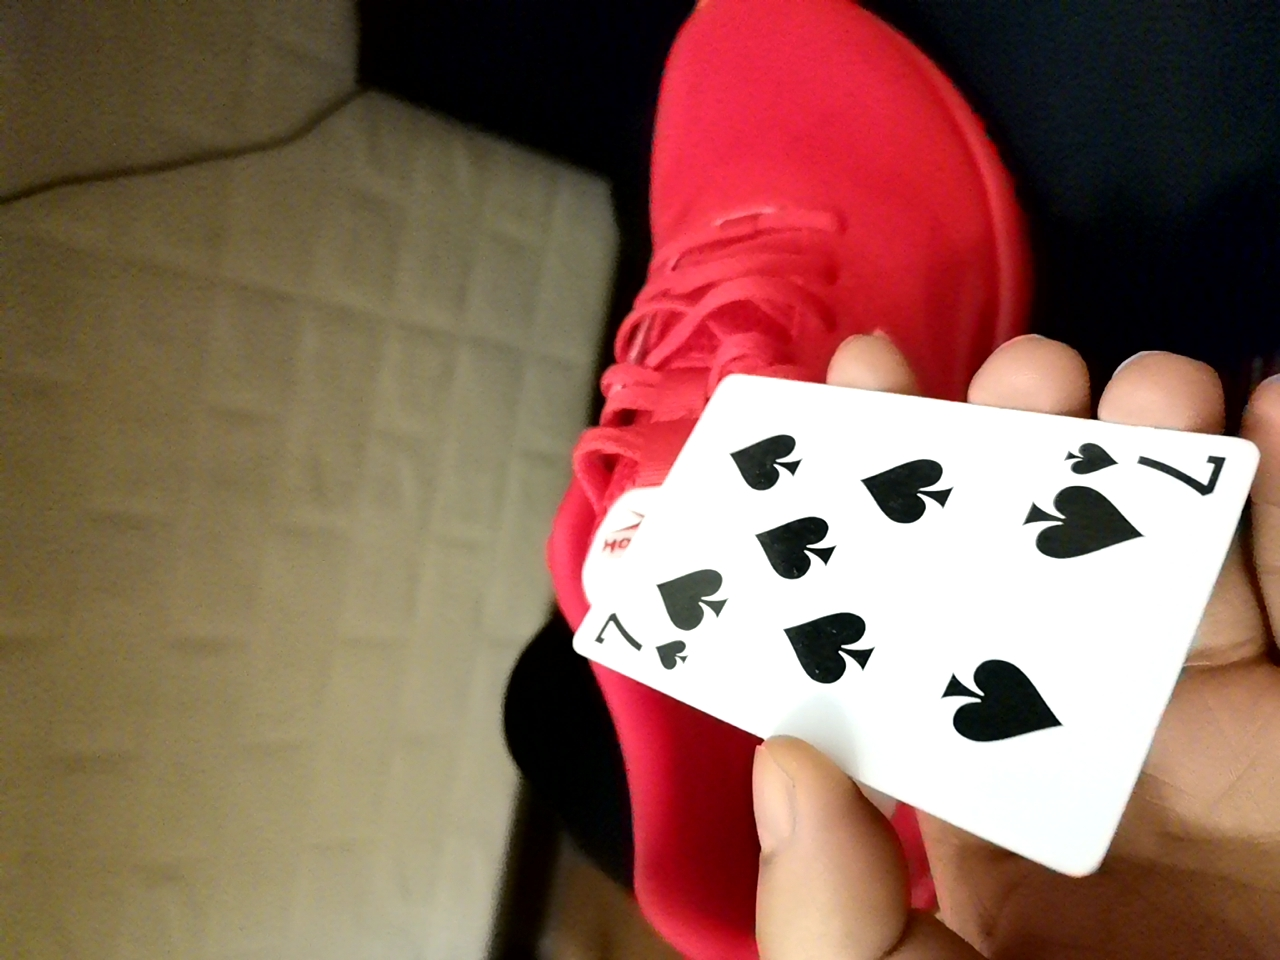ht 7: (570, 383, 1231, 799)
